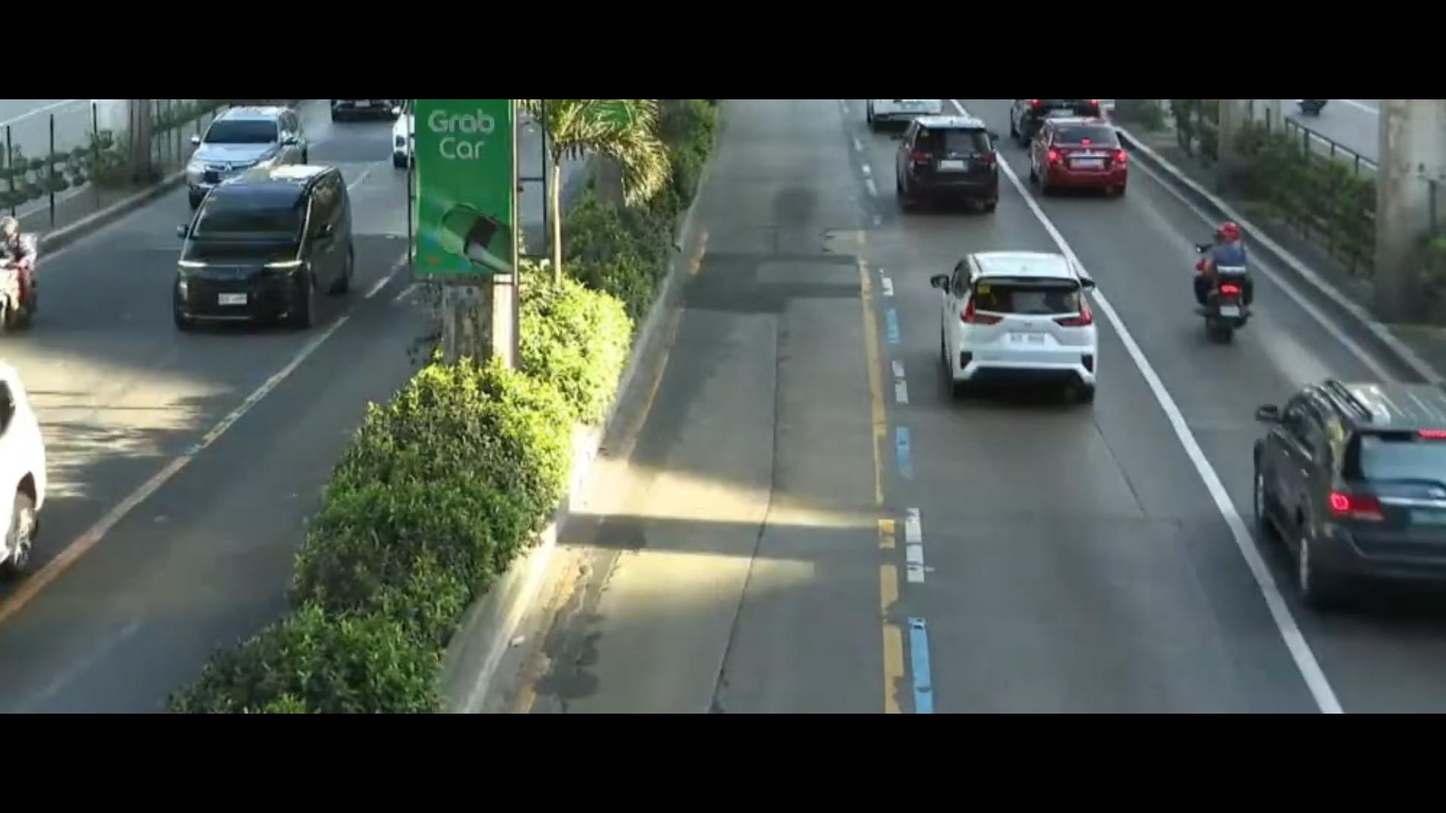Motorcycle: (1176, 189, 1266, 362), (0, 226, 58, 332)
SUV: (1218, 327, 1446, 609), (919, 244, 1138, 407), (177, 91, 317, 210), (884, 106, 1015, 222)
Sedan: (1025, 103, 1138, 206)
Van: (141, 156, 375, 349)
